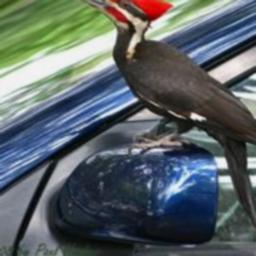Woodpecker: (67, 0, 256, 241)
